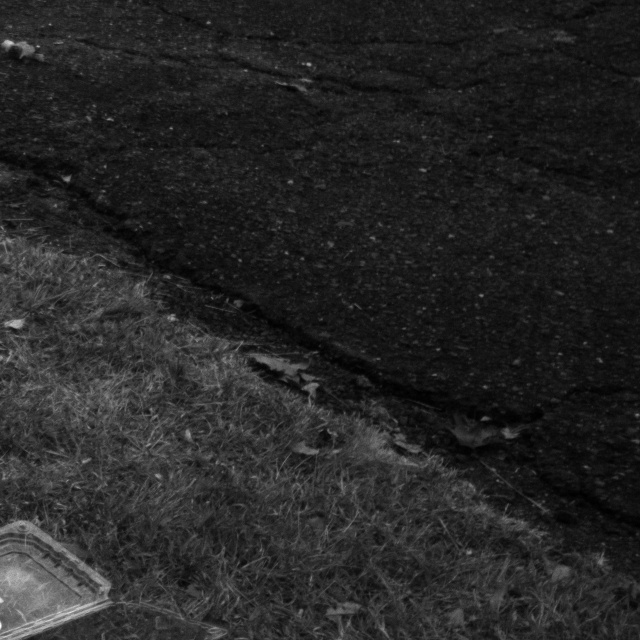container: (0, 514, 214, 640)
